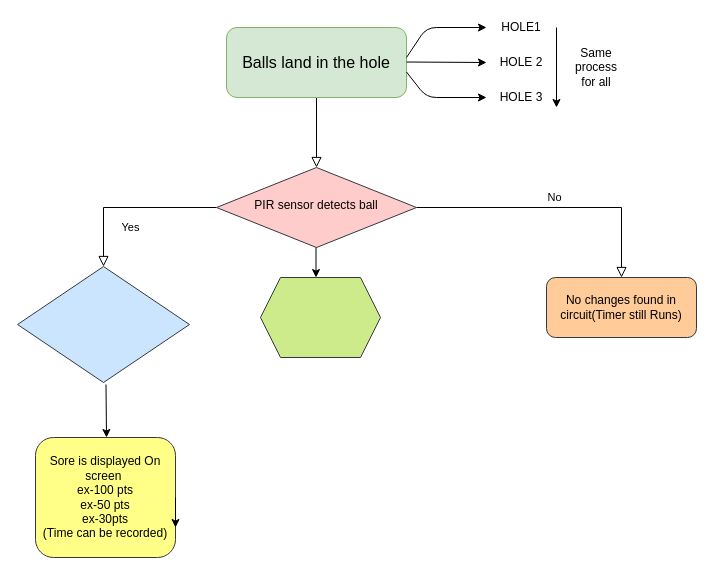
Some shapes in this 714 by 575 pixel diagram are drawn without their labels. The box of each missing label's shape, as (x1, y1, x2, y2) in pixels:
Score assigned as per the hole the ball falls into: (16, 266, 190, 382)
The buzzer beeps: (260, 276, 380, 358)
